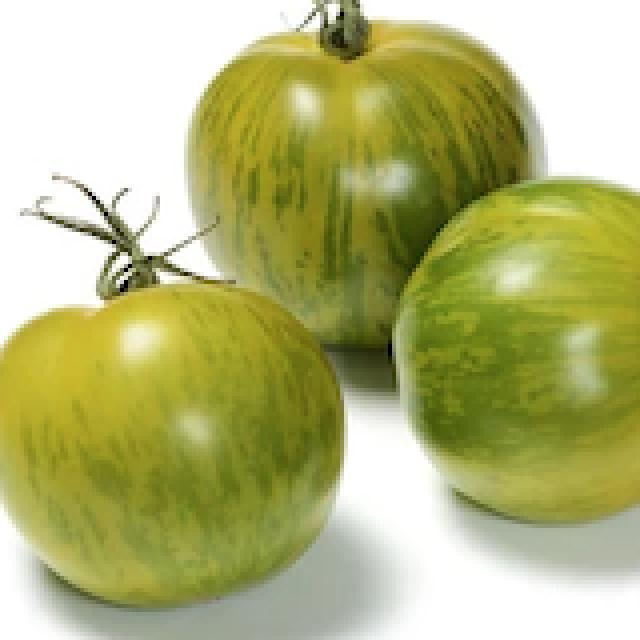yesil: (0, 5, 640, 602)
